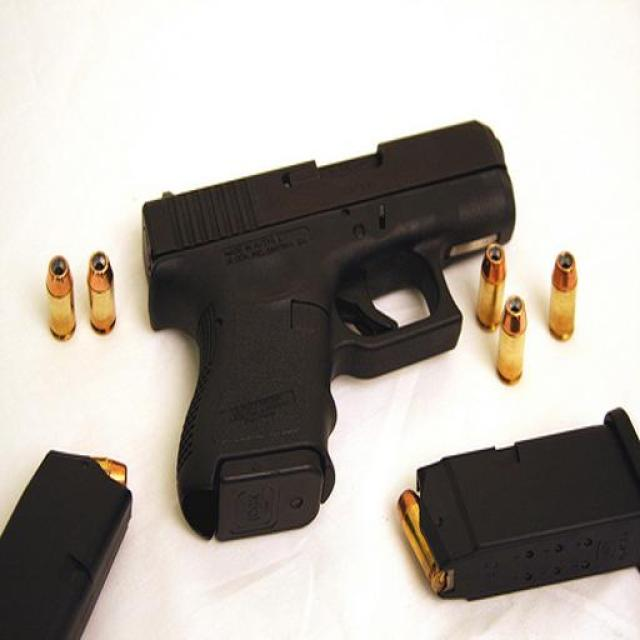pistol: (138, 109, 506, 545)
